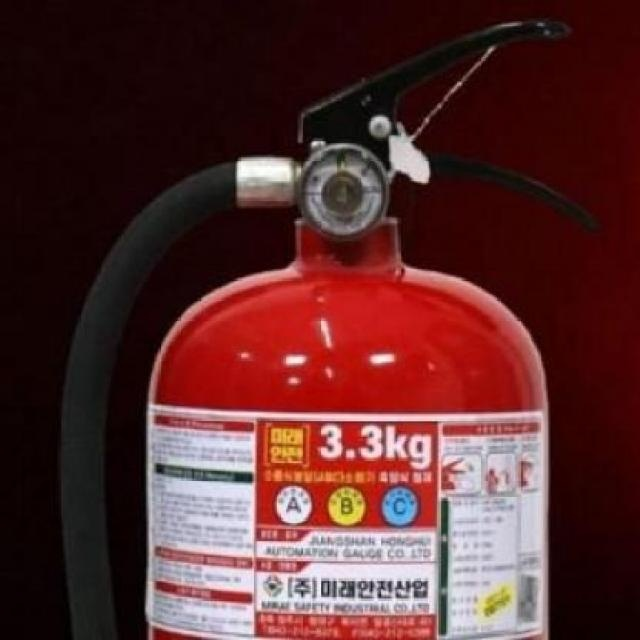fire extinguisher: (57, 17, 600, 640)
